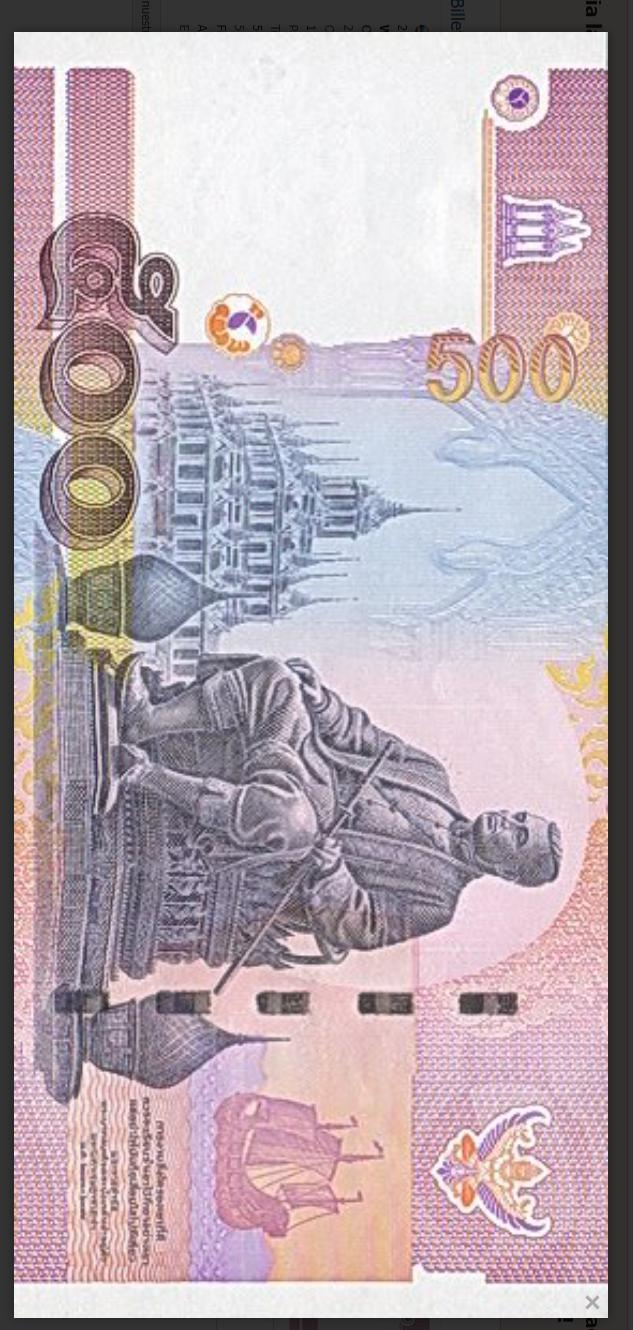500BahtTai: (19, 35, 610, 1317)
